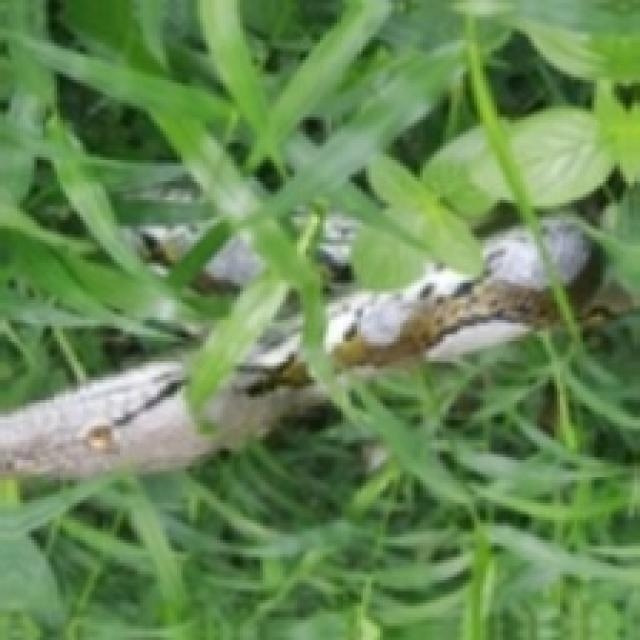reticulated python: (0, 320, 323, 477), (326, 226, 549, 366), (542, 218, 591, 284)
